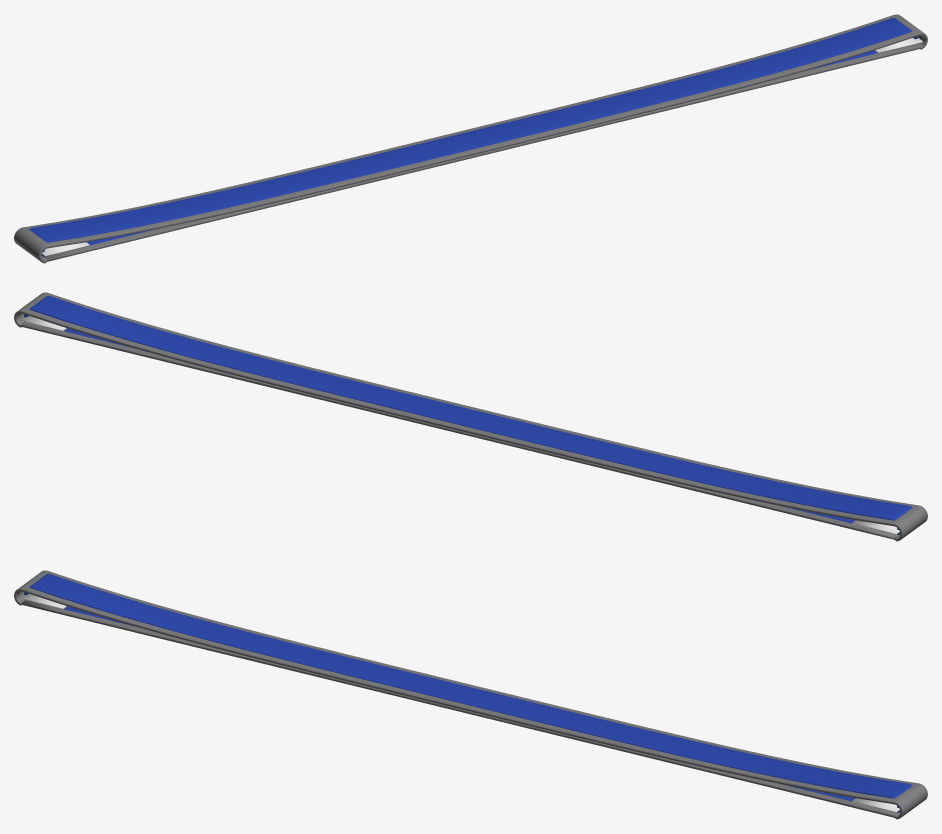
Rendered from pro-tec-stretch-band_v001.glb.
3 views of the same model, one above another, from view 1: azimuth 30°, elevation 25°; view 2: azimuth 150°, elevation 25°; view 3: azimuth 330°, elevation 25° (orthographic).
Parts seen in each view (by area): view 1: pro-tec-stretch-band_blue, pro-tec-stretch-band_grey, pro-tec-stretch-band_white; view 2: pro-tec-stretch-band_blue, pro-tec-stretch-band_grey, pro-tec-stretch-band_white; view 3: pro-tec-stretch-band_blue, pro-tec-stretch-band_grey, pro-tec-stretch-band_white.
Part boxes in pixels (left/top/right/bottom): pro-tec-stretch-band_blue: left=29, top=18, right=917, bottom=256; pro-tec-stretch-band_grey: left=14, top=14, right=927, bottom=263; pro-tec-stretch-band_white: left=42, top=38, right=922, bottom=256; pro-tec-stretch-band_blue: left=24, top=296, right=912, bottom=534; pro-tec-stretch-band_grey: left=14, top=292, right=927, bottom=541; pro-tec-stretch-band_white: left=19, top=316, right=899, bottom=534; pro-tec-stretch-band_blue: left=24, top=574, right=912, bottom=812; pro-tec-stretch-band_grey: left=14, top=570, right=927, bottom=819; pro-tec-stretch-band_white: left=19, top=594, right=899, bottom=812.
Bounding box in the file's own units: 1 × 0.0196 × 0.052.
